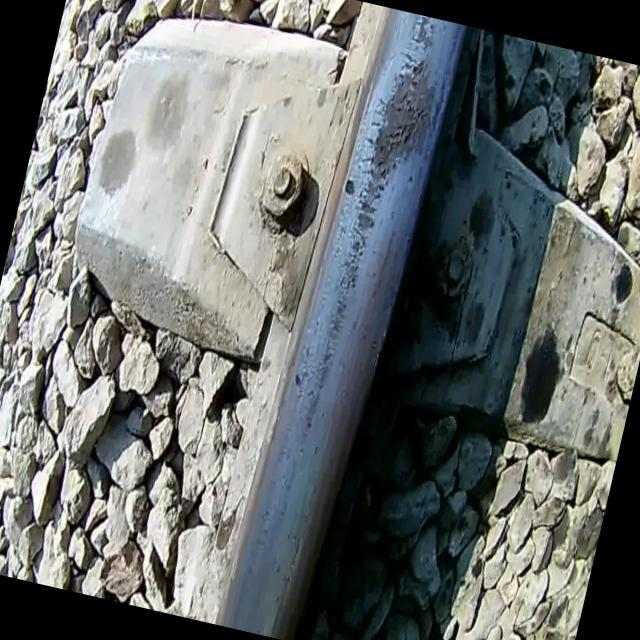Squats: (345, 44, 456, 250)
